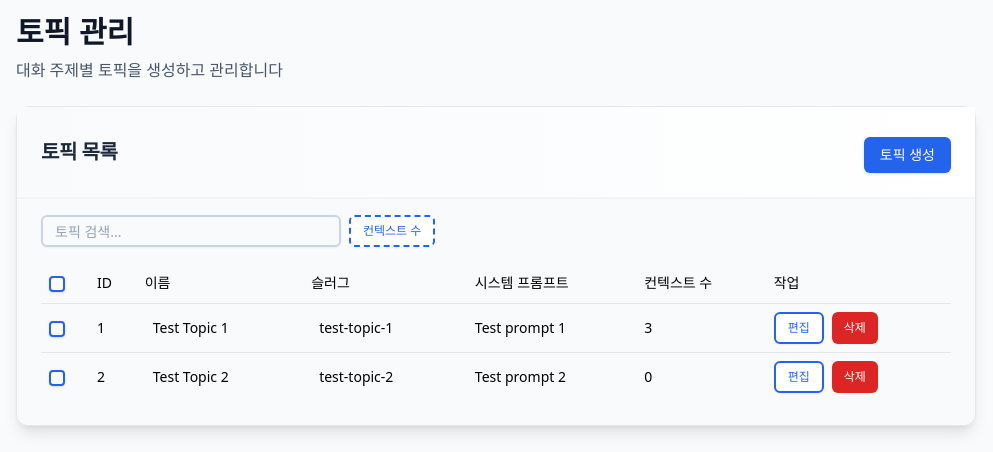
Test: TopicList › filters topics by search query
The width and height of the screenshot is (993, 452).
Type "Topic 1" into the field with placeholder "토픽 검색..." at (191, 231), box [41,215,341,247]
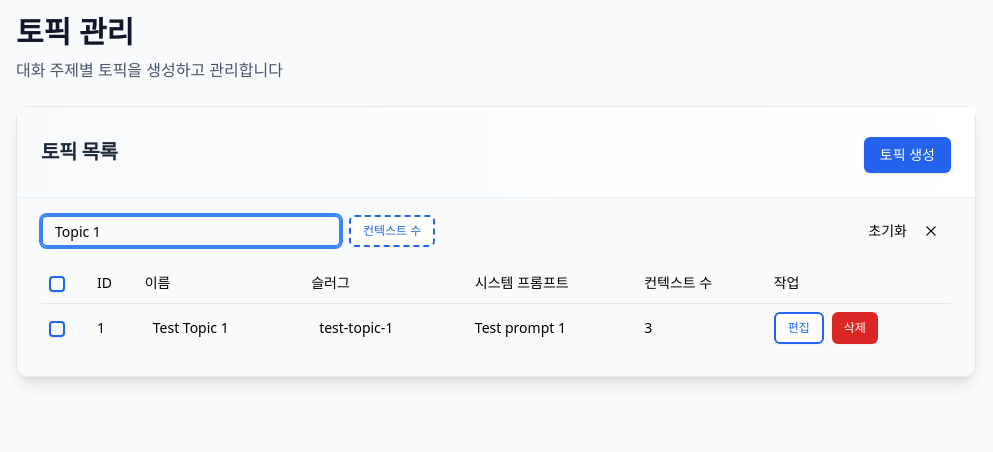
Check: the text "Test Topic 1" is shown, box [153,318,229,336]
Check: the text "Test Topic 2" is gone
